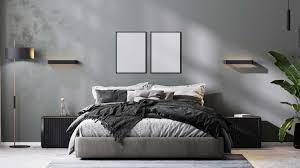Indoor Plant: (271, 46, 300, 149)
bed: (77, 83, 224, 158)
blanket: (66, 101, 232, 157)
lamp: (8, 40, 35, 148)
painting: (116, 31, 147, 74), (150, 30, 181, 73)
pillow: (92, 83, 205, 106)
table: (43, 116, 76, 149), (227, 117, 262, 146)
